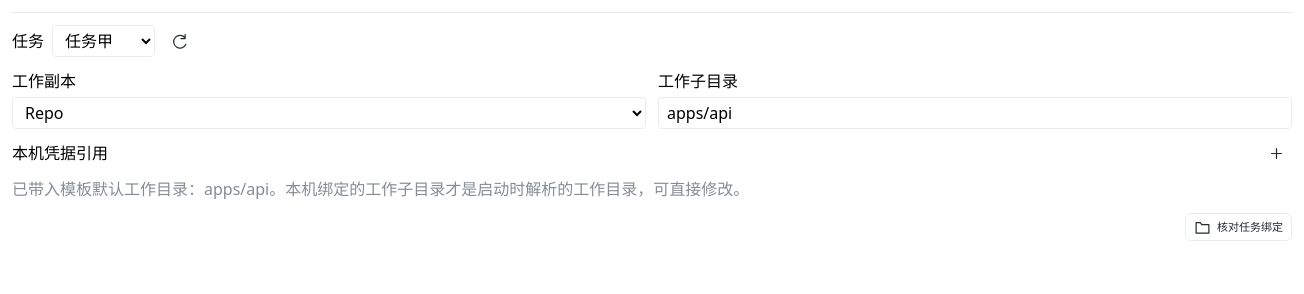
Test: prefills the bound working directory from the template default and says which one a launch uses
The width and height of the screenshot is (1304, 294).
Expected: the text "已带入模板默认工作目录：apps/api。本机绑定的工作子目录才是启动时解析的工作目录，可直接修改。" is shown, [12,178,749,200]
Type "apps/other" into the field named "绑定工作子目录". click: (975, 113)
box: [658,97,1292,129]
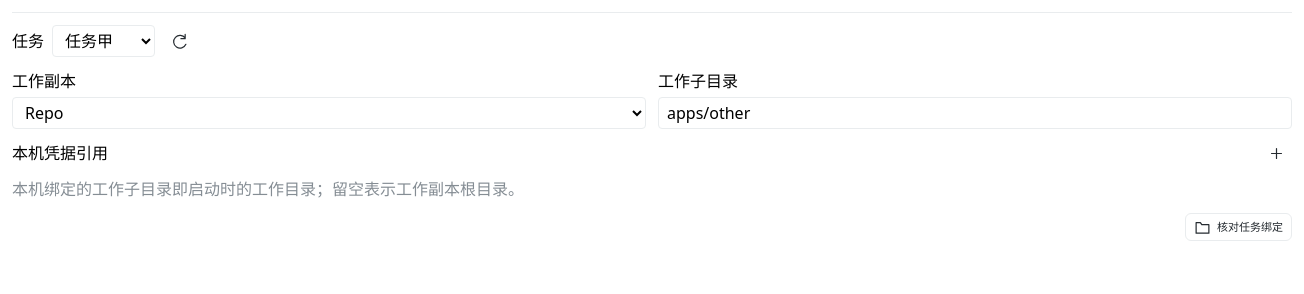
Result: the text "本机绑定的工作子目录即启动时的工作目录；留空表示工作副本根目录。" is shown at [12,178,524,200]
Click the button "核对任务绑定". click: (1238, 227)
box: [1185,213,1292,241]
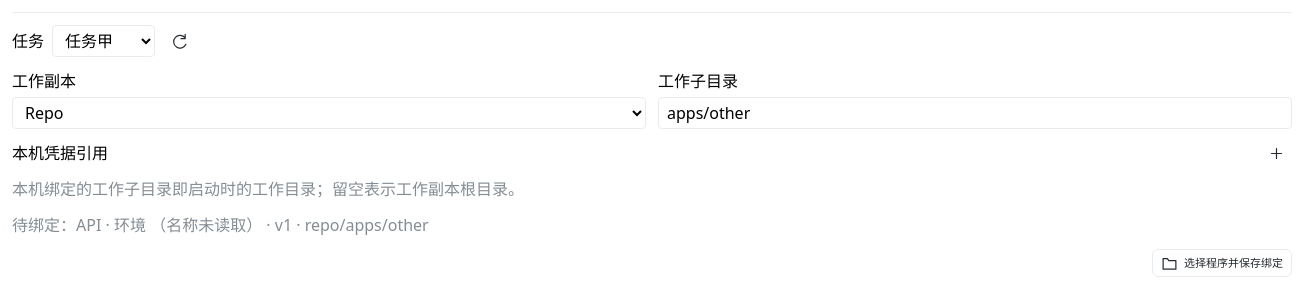
Click the button "选择程序并保存绑定". click: (1222, 263)
box: [1152,249,1292,277]
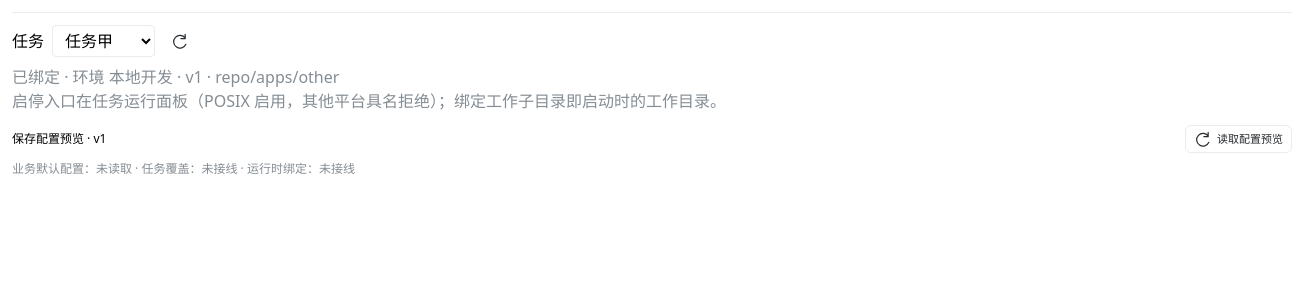
Result: the text "已绑定 · 环境 本地开发 · v1 · repo/apps/other" is shown at [12,66,339,88]
